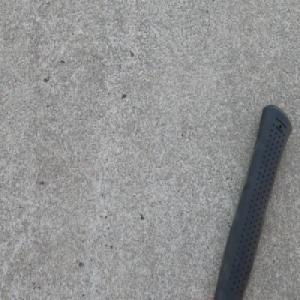Hammer: (212, 104, 293, 300)
